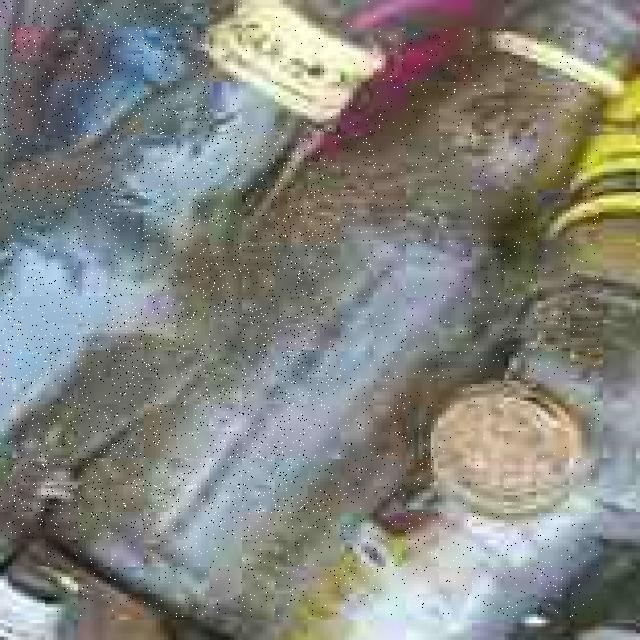glass: (45, 28, 599, 617), (0, 0, 332, 539)
metal: (435, 379, 586, 512), (210, 1, 377, 121)
